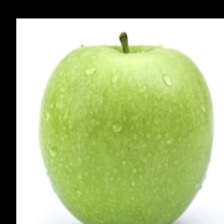apple: (38, 41, 189, 194)
